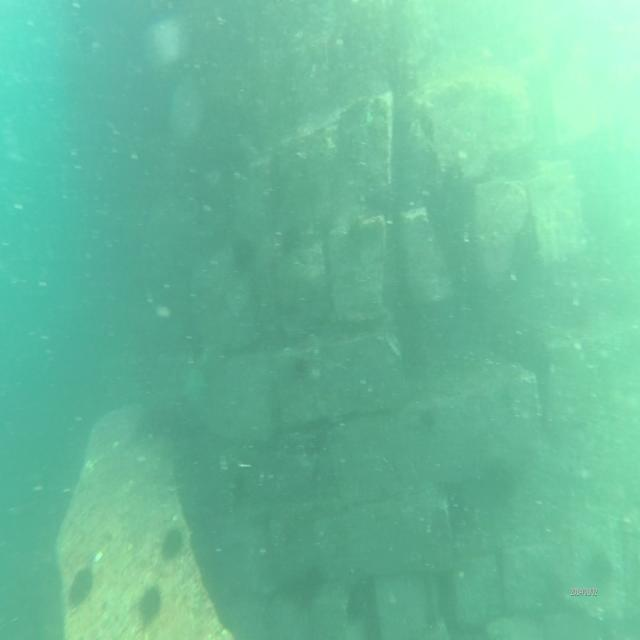echinus: (481, 453, 511, 502), (341, 217, 370, 260), (66, 567, 92, 613), (130, 590, 163, 624), (230, 233, 254, 268), (158, 526, 183, 559), (290, 351, 312, 379), (282, 228, 301, 258)
